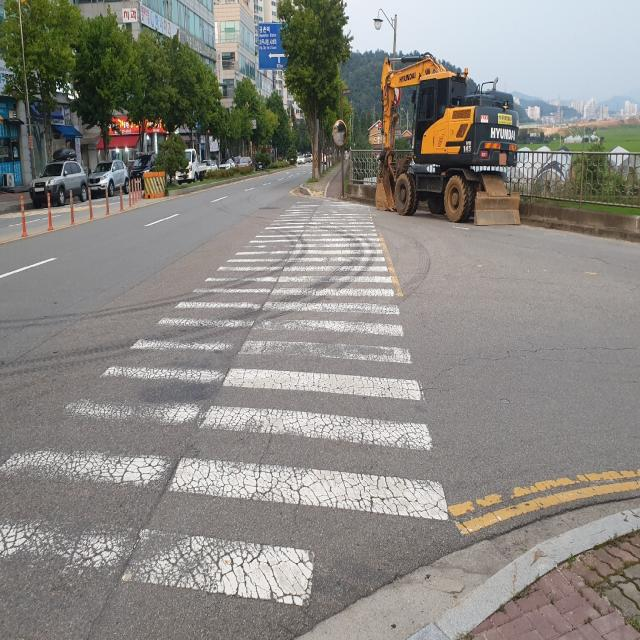횡단보도: (0, 200, 448, 606)
